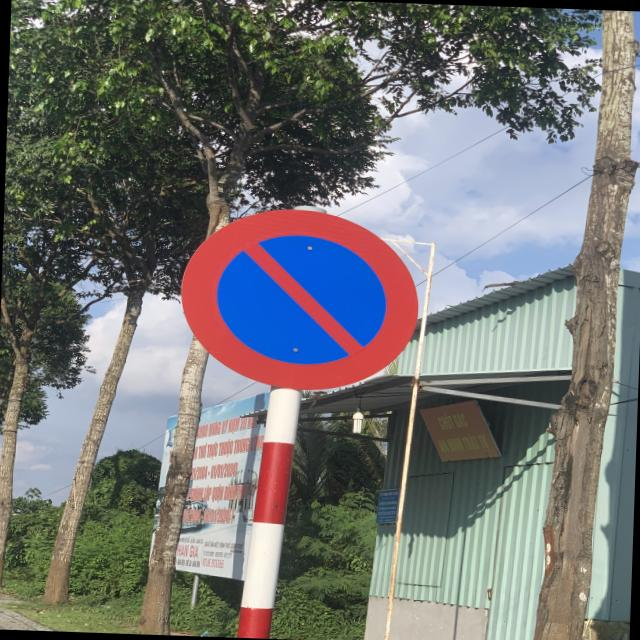Cam_Dau_Xe: (178, 204, 420, 394)
